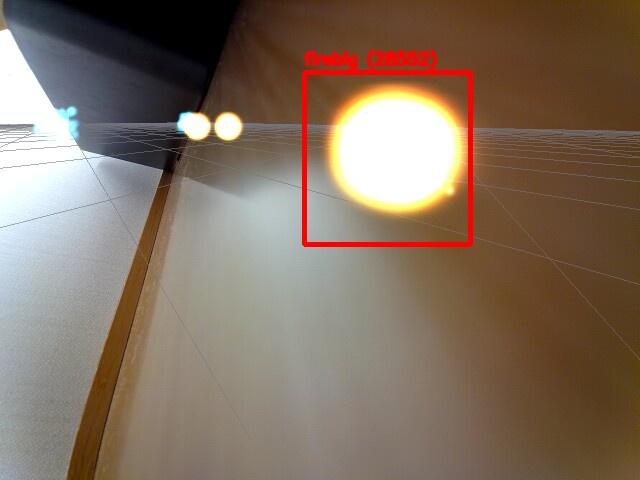firebig: (304, 72, 470, 244)
